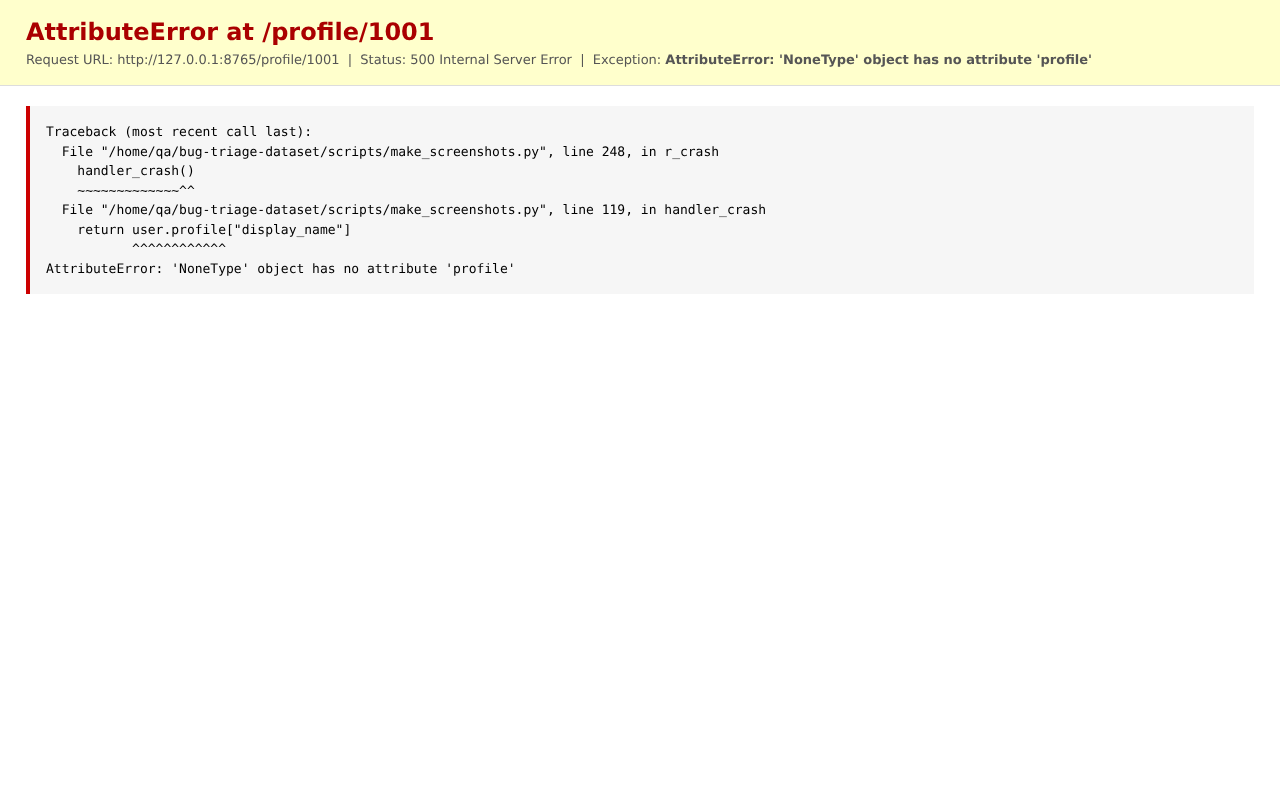ERROR_TEXT: (26, 21, 433, 45), (594, 54, 1091, 67), (46, 263, 513, 276)
STACK_TRACE: (26, 106, 1254, 294)
STATUS_INDICATOR: (361, 54, 572, 65)
